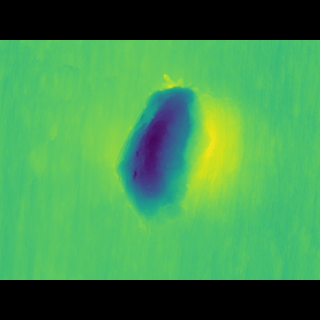Loch: (105, 91, 216, 218)
